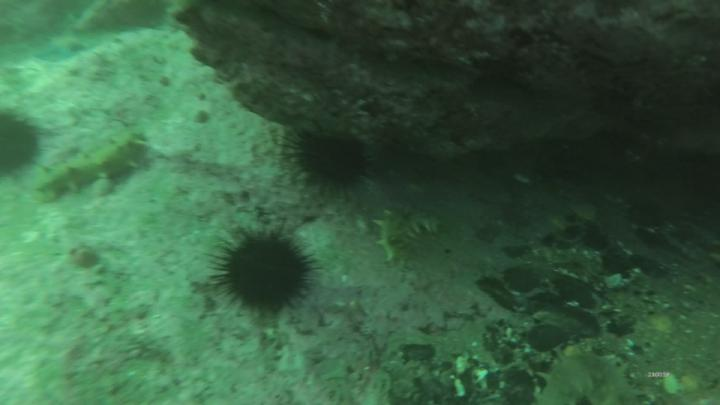echinus: (226, 234, 309, 311), (300, 136, 364, 185), (2, 116, 36, 179)
holothurian: (41, 133, 148, 201), (540, 355, 645, 405), (379, 204, 443, 263)
